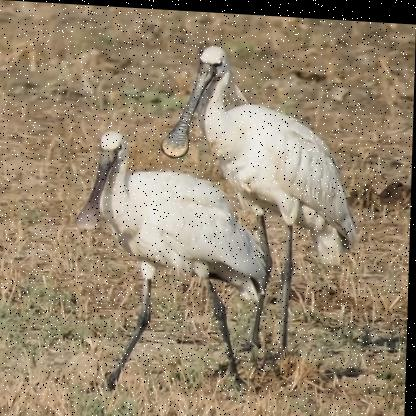Burung: (156, 42, 368, 360), (73, 126, 274, 386)
